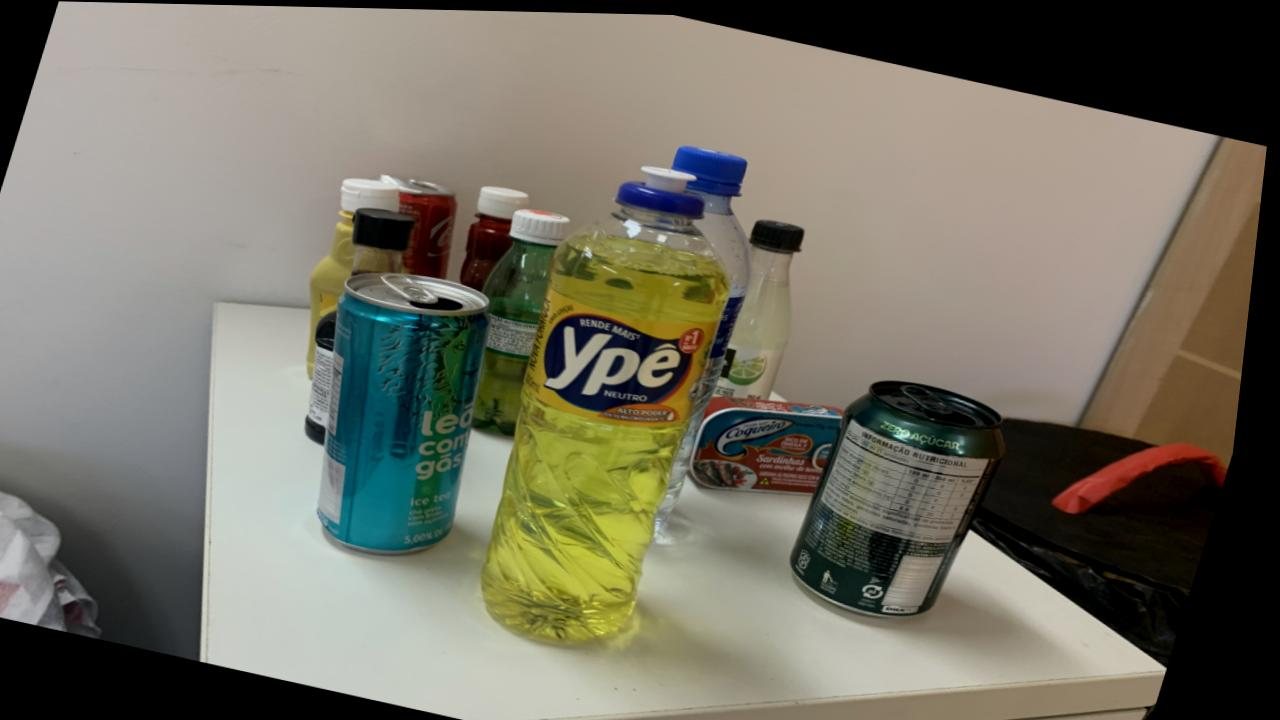Coke-Drinks: (384, 172, 461, 277)
Detergent-Cleanup_Items: (493, 164, 735, 638)
English_Sauce-Pantry_Items: (356, 205, 419, 273), (314, 308, 344, 441)
Guarana-Drinks: (482, 206, 573, 432)
Guarana_Can-Drinks: (802, 376, 1014, 612)
Ketchup-Pantry_Items: (465, 183, 534, 288)
Mustard-Pantry_Items: (314, 176, 404, 375)
Soda-Drinks: (721, 215, 808, 396)
Tea-Drinks: (328, 270, 496, 551)
Tuna_Can-Pantry_Items: (701, 393, 851, 491)
Water_Bottle-Drinks: (667, 142, 757, 532)
